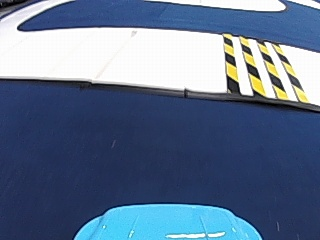bump: (202, 32, 295, 98)
